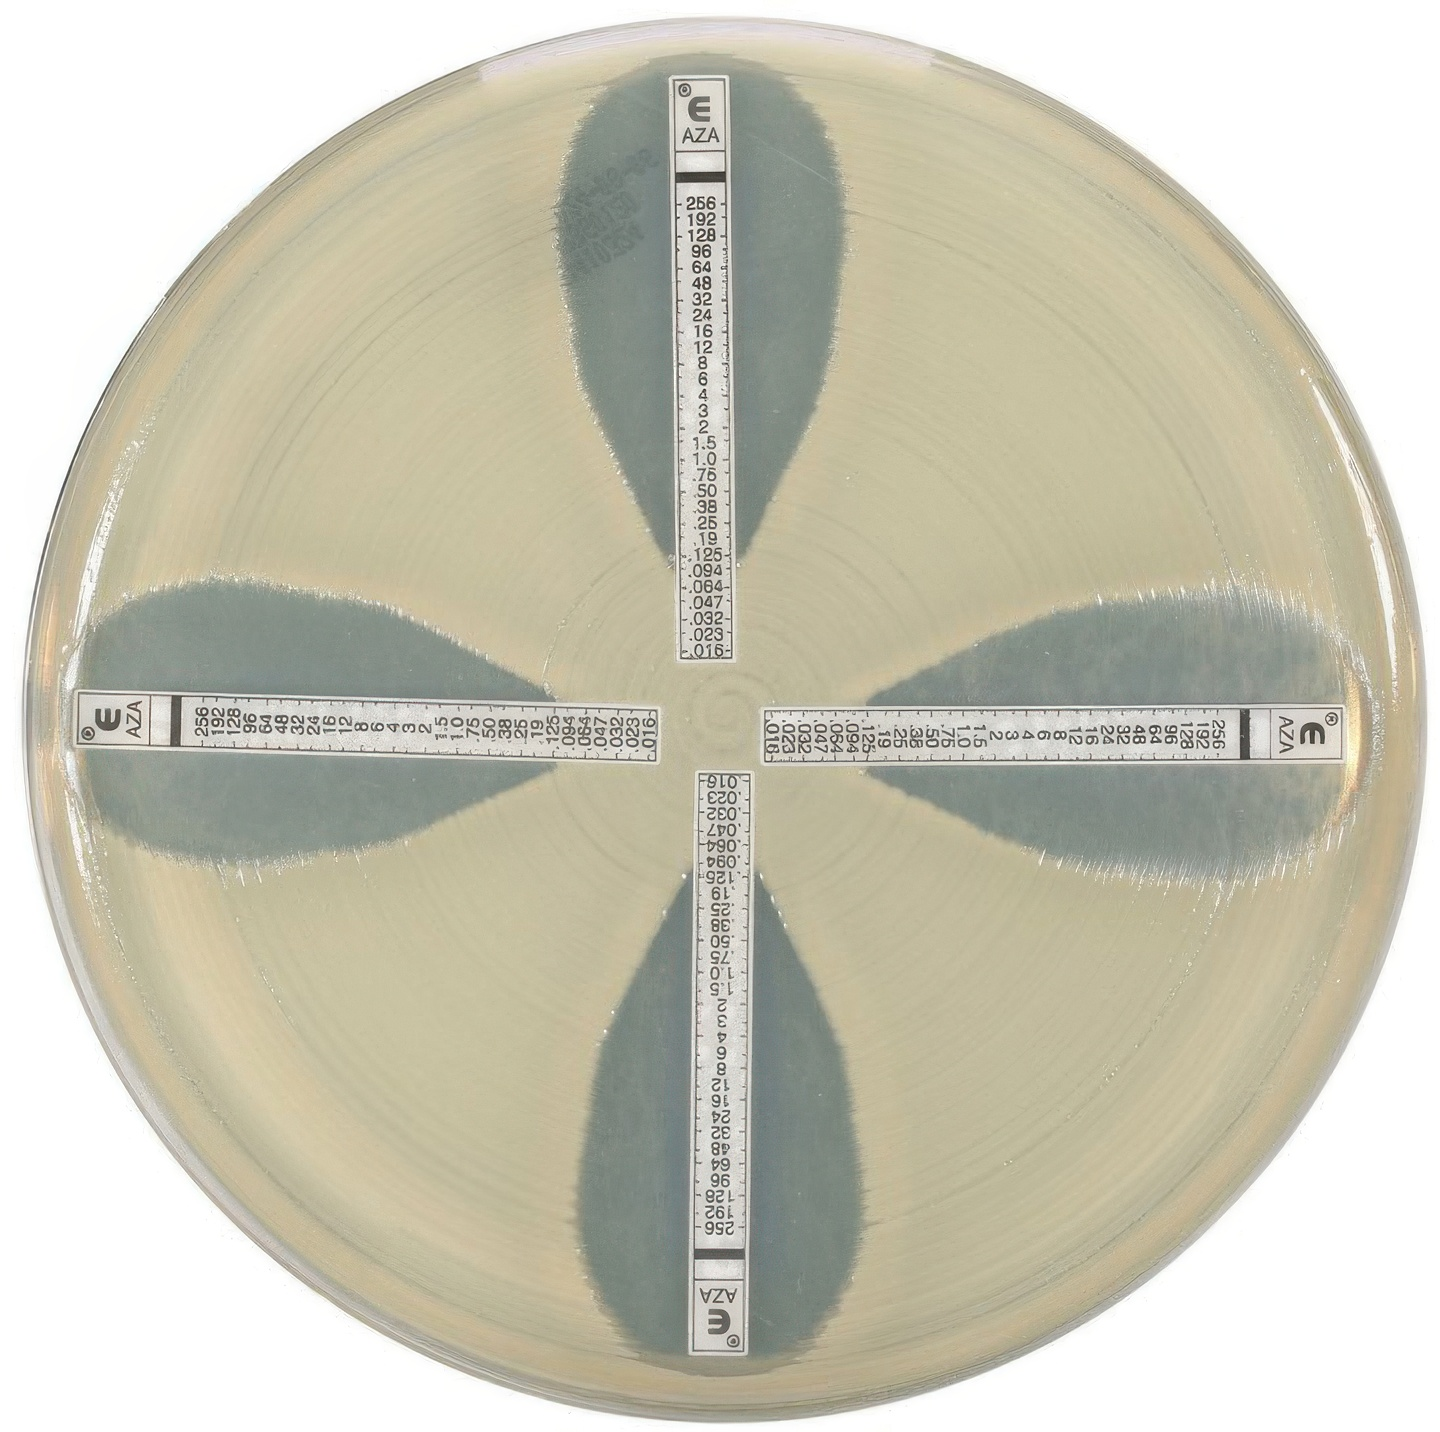line: (70, 688, 665, 766), (669, 73, 738, 664), (687, 768, 755, 1359), (758, 704, 1347, 768)
zone: (557, 52, 849, 561), (867, 589, 1377, 879), (577, 871, 864, 1376), (71, 578, 556, 871)
